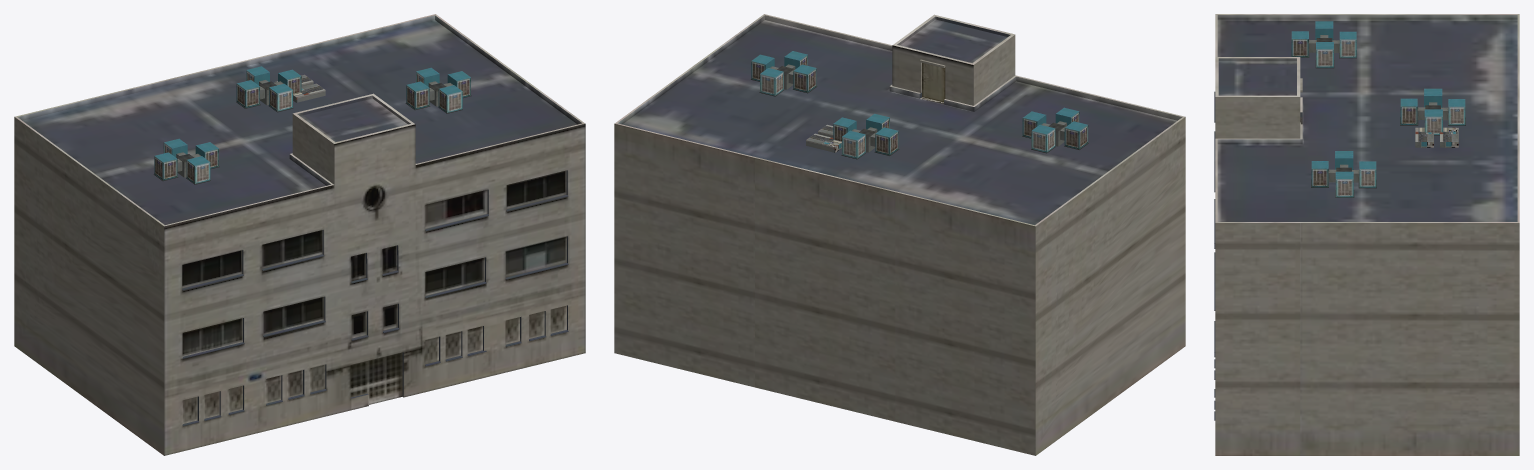
The model's file is hospital.lod1.glb.
The picture shows the model from 3 angles, left to right: view 1: azimuth 30°, elevation 25°; view 2: azimuth 150°, elevation 25°; view 3: azimuth 270°, elevation 25°; orthographic projection.
Visible parts, largest first — view 1: Building00_House_0, Building00_Building_Roof_Detail_0; view 2: Building00_House_0, Building00_Building_Roof_Detail_0; view 3: Building00_House_0, Building00_Building_Roof_Detail_0.
Part boxes in pixels (x1,y1,x2,y2): Building00_House_0: [14, 14, 585, 455]; Building00_Building_Roof_Detail_0: [153, 66, 471, 184]; Building00_House_0: [614, 14, 1185, 455]; Building00_Building_Roof_Detail_0: [750, 51, 1088, 159]; Building00_House_0: [1214, 14, 1519, 455]; Building00_Building_Roof_Detail_0: [1291, 21, 1465, 197].
Size of the model in its own units: 40 by 24.53 by 24.73.
Materials: 2 (2 with a texture image).
